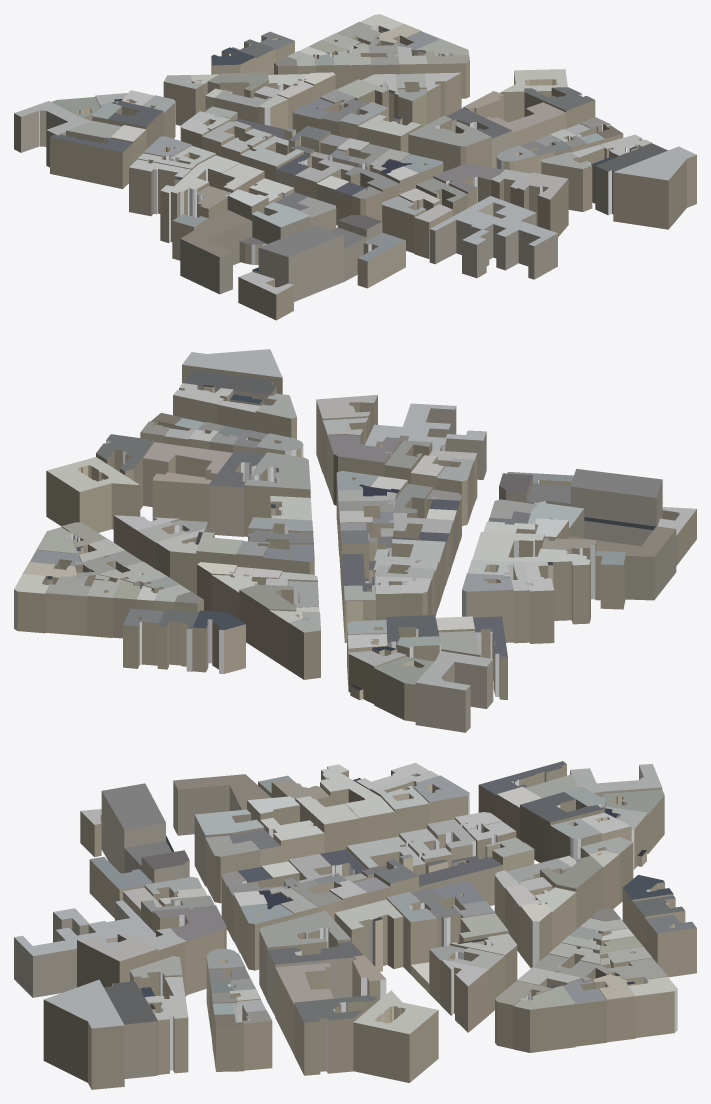
The picture shows the model from 3 angles, top to bottom: view 1: azimuth 30°, elevation 25°; view 2: azimuth 150°, elevation 25°; view 3: azimuth 270°, elevation 25°; orthographic projection. The views are drawn at different scales.
Parts seen in each view (by area): view 1: tuile; view 2: tuile; view 3: tuile.
Part boxes in pixels (box(x1,y1,x2,y2)): tuile: box(14, 14, 696, 320); tuile: box(14, 349, 696, 732); tuile: box(14, 761, 696, 1089).
Size of the model in its own units: 282 by 35.19 by 292.
